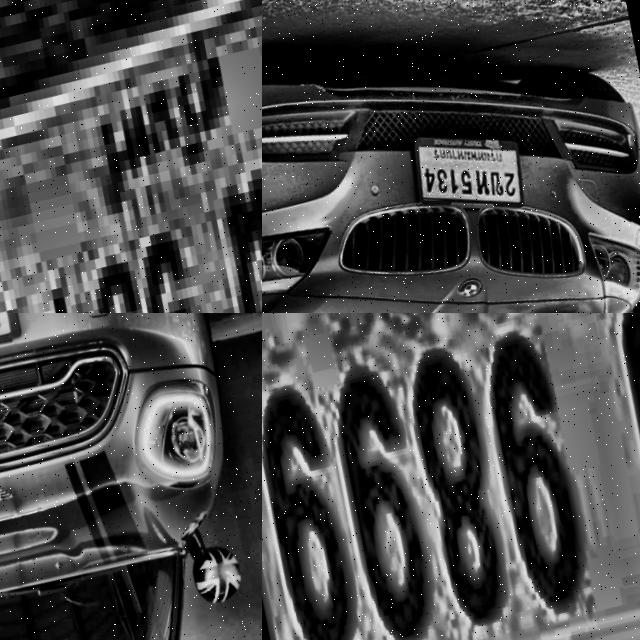license-plate: (262, 313, 640, 640), (0, 0, 262, 313), (399, 104, 536, 232)
